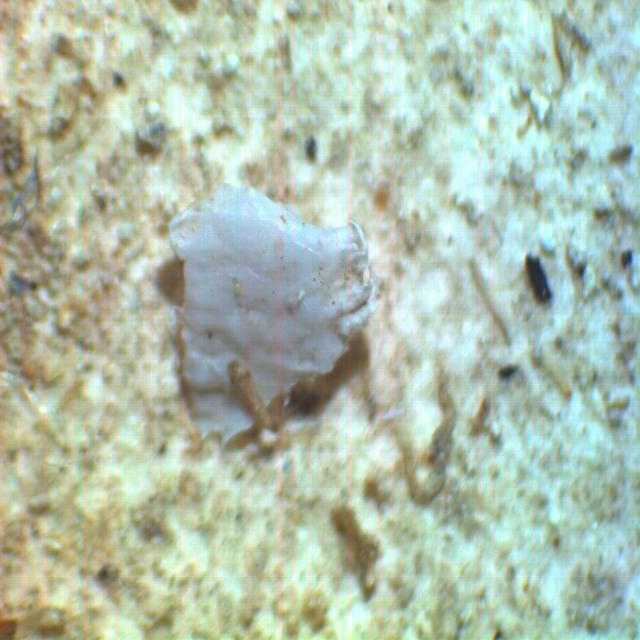microplastic: (122, 143, 412, 452)
